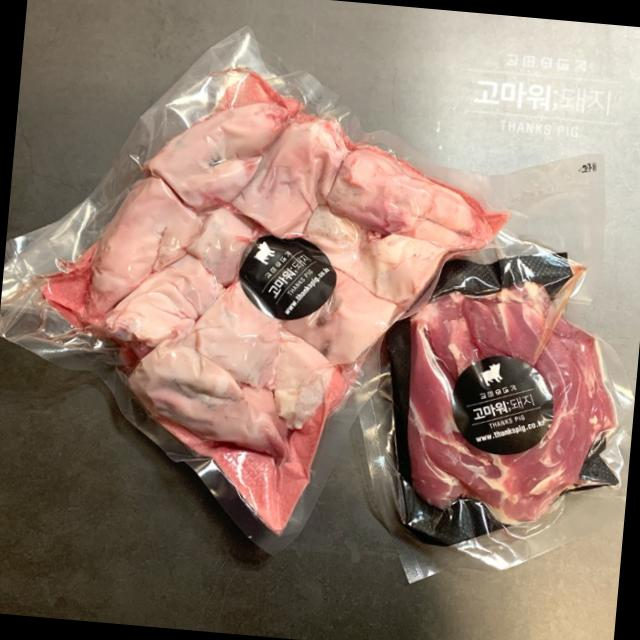pork: (0, 61, 640, 571)
